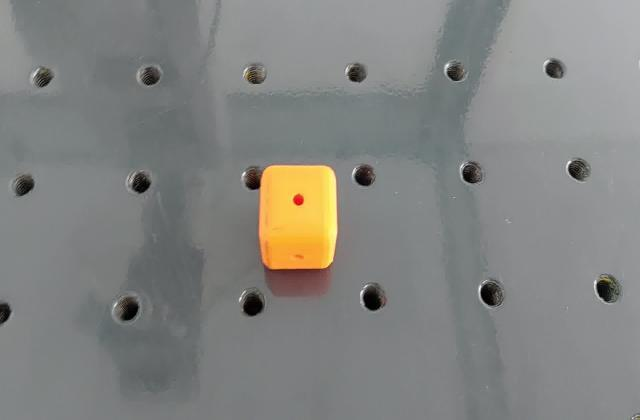cube: (258, 162, 338, 272)
